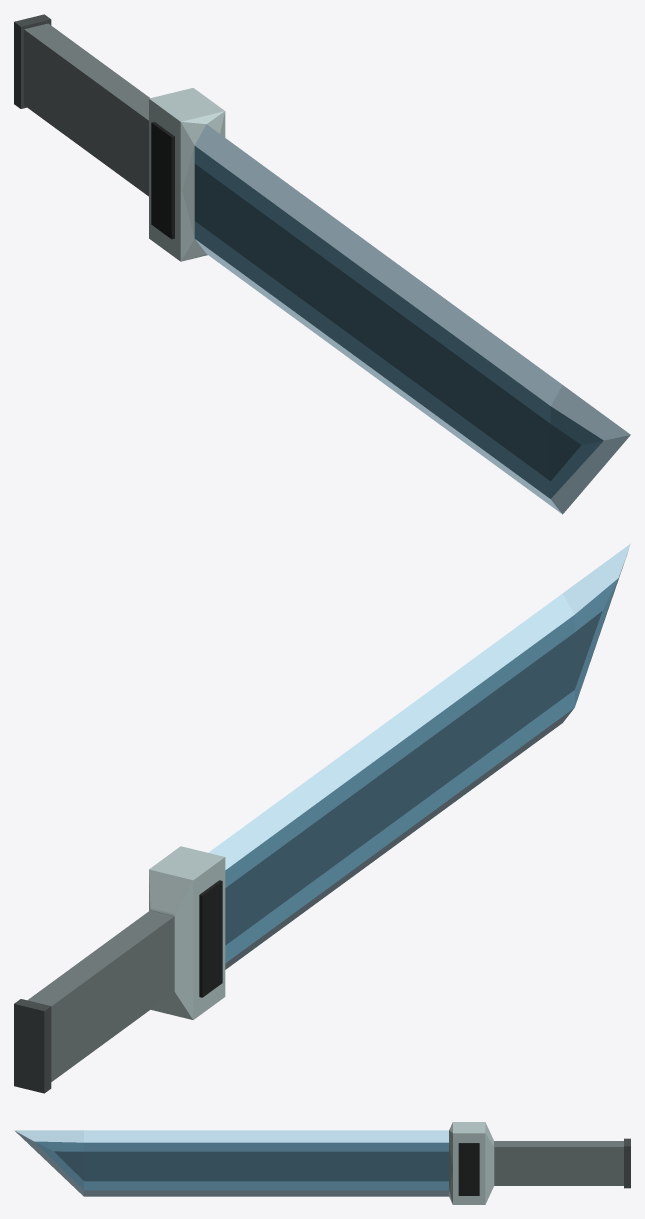
Rendered from Energy_Dagger.fbx.
3 views of the same model, one above another, from view 1: azimuth 30°, elevation 25°; view 2: azimuth 150°, elevation 25°; view 3: azimuth 270°, elevation 25° (orthographic). The views are drawn at different scales.
Parts seen in each view (by area): view 1: Energy_Dagger; view 2: Energy_Dagger; view 3: Energy_Dagger.
Boxes of the visible parts, box(x1,y1,x2,y2) form: Energy_Dagger: box(14, 14, 630, 514); Energy_Dagger: box(14, 543, 630, 1093); Energy_Dagger: box(14, 1122, 630, 1204).
Bounding box in the file's own units: 0.0259 × 0.0677 × 0.5281.
